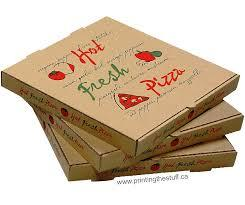Cardboard: (2, 7, 245, 201)
